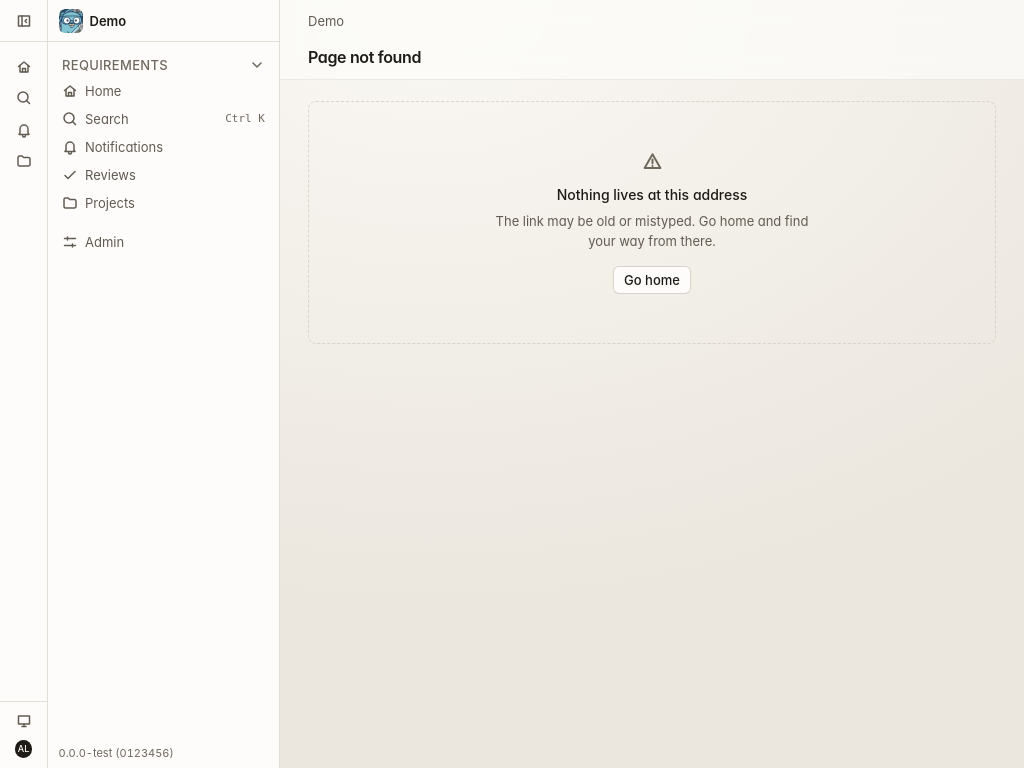
Test: a path that leads nowhere › says so inside the shell, with a heading, and offers the way home
The width and height of the screenshot is (1024, 768).
expect the heading "Page not found" is shown: met, box [308, 44, 421, 68]
expect the element that starts with "Nothing lives at this address" is shown: met, box [308, 101, 996, 344]
Click the button "Go home": (652, 280) [612, 266, 691, 294]
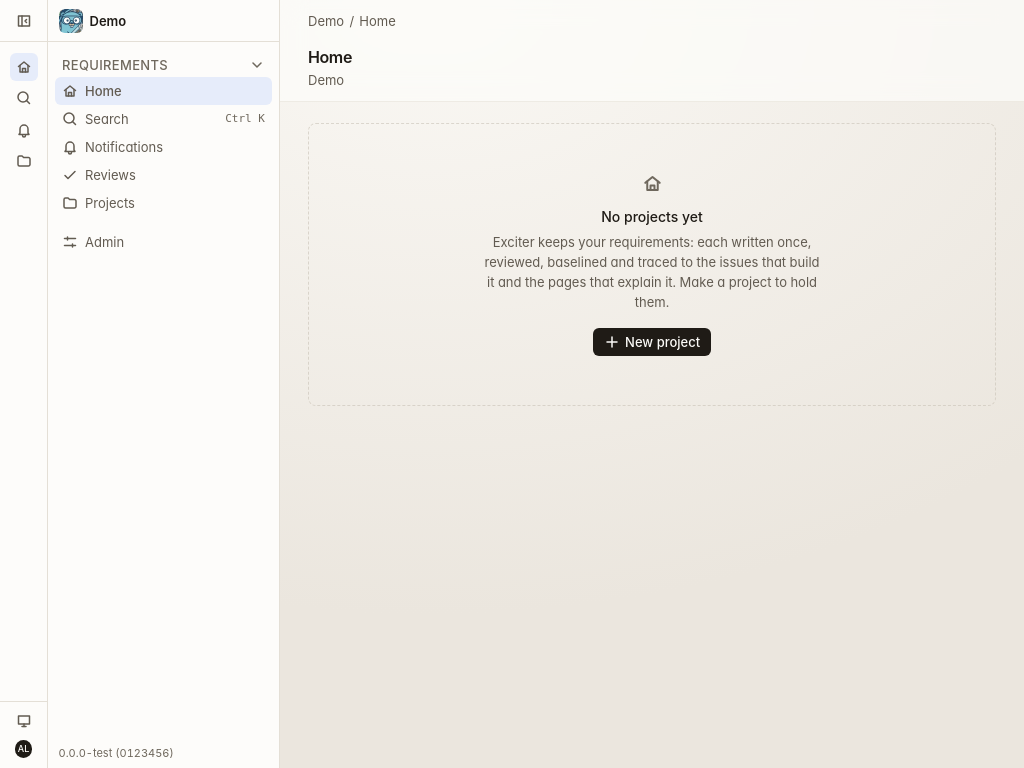
expect the text "No projects yet" is shown: met, box [601, 206, 703, 227]
